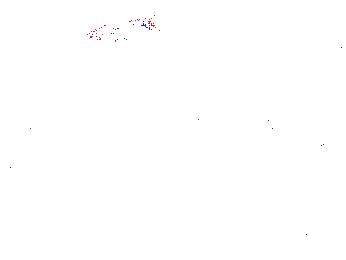redtail glassfish: (86, 10, 157, 43)
